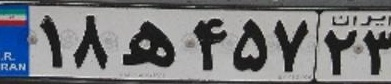character: (113, 13, 181, 74), (188, 12, 230, 75), (271, 14, 312, 77), (230, 15, 271, 77), (68, 12, 111, 71), (323, 26, 359, 79), (35, 13, 67, 72), (359, 27, 391, 78)
